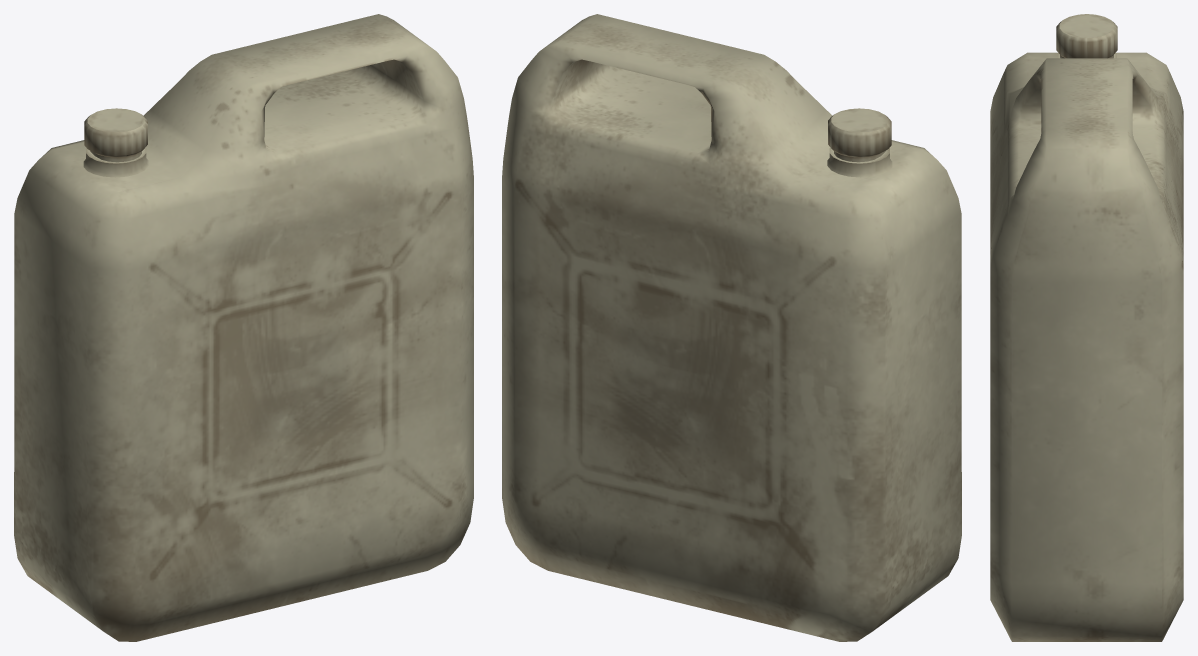
The model's file is SM_jerrycan_plastic.fbx.
3 views of the same model, side by side, from view 1: azimuth 30°, elevation 25°; view 2: azimuth 150°, elevation 25°; view 3: azimuth 270°, elevation 25° (orthographic).
Parts seen in each view (by area): view 1: SM_jerrycan_plastic_LOD0; view 2: SM_jerrycan_plastic_LOD0; view 3: SM_jerrycan_plastic_LOD0.
Boxes of the visible parts, x1,y1,x2,y2 form: SM_jerrycan_plastic_LOD0: (14, 14, 473, 641); SM_jerrycan_plastic_LOD0: (502, 14, 961, 641); SM_jerrycan_plastic_LOD0: (990, 14, 1183, 641).
Bounding box in the file's own units: 36 × 16 × 45.88.
